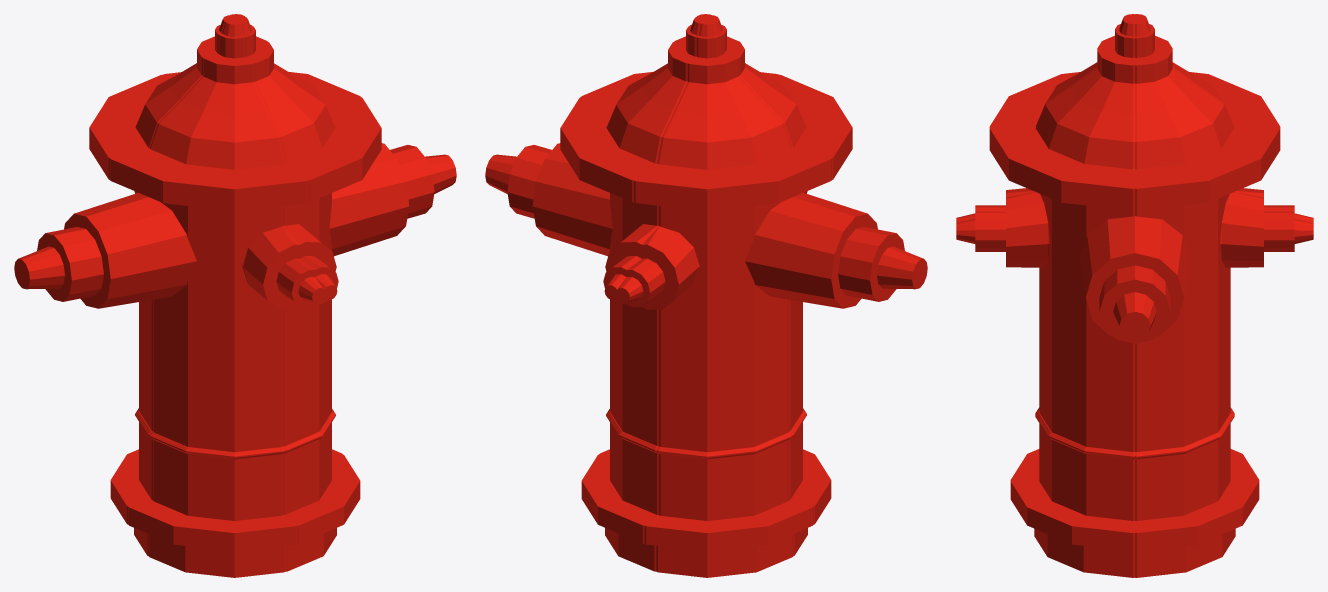
Rendered from fireextextenvisher.fbx.
The picture shows the model from 3 angles, left to right: view 1: azimuth 30°, elevation 25°; view 2: azimuth 150°, elevation 25°; view 3: azimuth 270°, elevation 25°; orthographic projection.
Parts seen in each view (by area): view 1: Circle; view 2: Circle; view 3: Circle.
Boxes of the visible parts, left/top/right/bottom form: Circle: left=14, top=14, right=456, bottom=577; Circle: left=485, top=14, right=927, bottom=577; Circle: left=956, top=14, right=1313, bottom=577.
Size of the model in its own units: 500 by 577 by 362.
